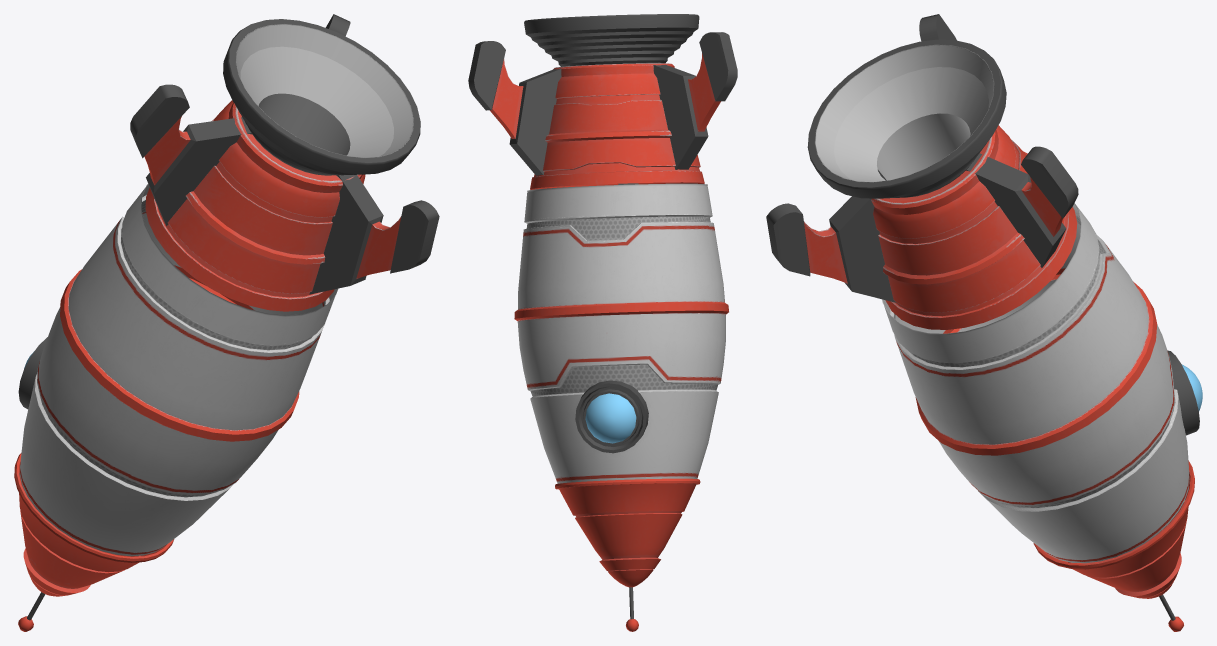
The model's file is RocketB1.fbx.
The picture shows the model from 3 angles, left to right: view 1: azimuth 30°, elevation 25°; view 2: azimuth 150°, elevation 25°; view 3: azimuth 270°, elevation 25°; orthographic projection. The views are drawn at different scales.
Visible parts, largest first — view 1: RocketB1; view 2: RocketB1; view 3: RocketB1.
Boxes of the visible parts, x1,y1,x2,y2 form: RocketB1: [14, 14, 439, 631]; RocketB1: [468, 14, 737, 631]; RocketB1: [766, 14, 1202, 631].
Bounding box in the file's own units: 1.43 × 3 × 1.86.
